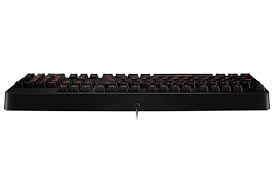keyboard: (4, 68, 271, 111)
